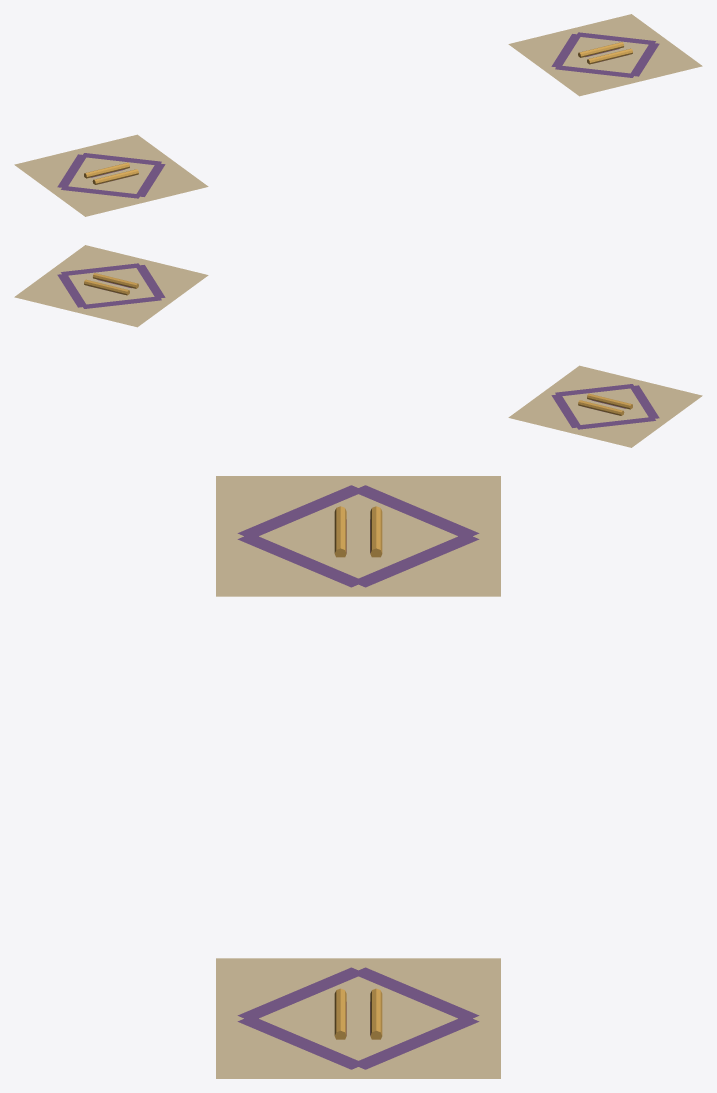
File: route-temple_n-pyramid_n-fold.glb
3 renders of one model, top to bottom at view 1: azimuth 30°, elevation 25°; view 2: azimuth 150°, elevation 25°; view 3: azimuth 270°, elevation 25°, orthographic. The views are drawn at different scales.
Parts seen in each view (by area): view 1: Surveyed floor · route-temple_n-pyramid_n-fold; view 2: Surveyed floor · route-temple_n-pyramid_n-fold; view 3: Surveyed floor · route-temple_n-pyramid_n-fold.
Part boxes in pixels (left/top/right/bottom): Surveyed floor · route-temple_n-pyramid_n-fold: left=14, top=14, right=702, bottom=216; Surveyed floor · route-temple_n-pyramid_n-fold: left=14, top=245, right=702, bottom=447; Surveyed floor · route-temple_n-pyramid_n-fold: left=216, top=476, right=500, bottom=1078.
Size of the model in its own units: 20 by 0.17 by 4.
